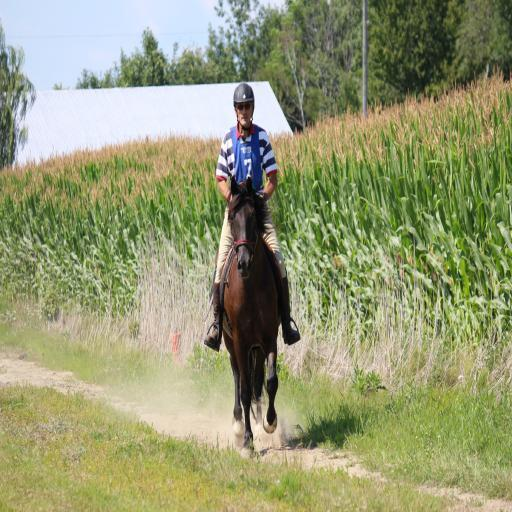horse: (220, 174, 283, 462)
